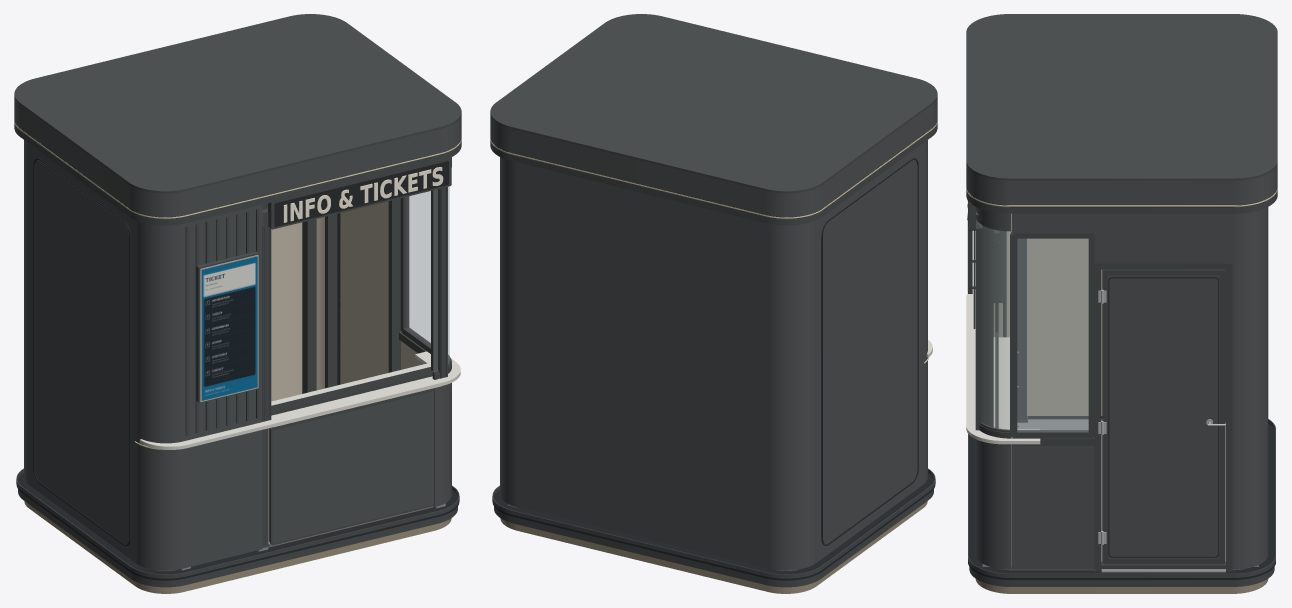
3 renders of one model, left to right at view 1: azimuth 30°, elevation 25°; view 2: azimuth 150°, elevation 25°; view 3: azimuth 270°, elevation 25°, orthographic. The views are drawn at different scales.
Visible parts, largest first — view 1: Geom3D (×42); view 2: Geom3D (×17); view 3: Geom3D (×33).
Part boxes in pixels (x1,y1,x2,y2): Geom3D (×42): (14, 14, 461, 593); Geom3D (×17): (490, 14, 937, 593); Geom3D (×33): (966, 14, 1277, 593).
Bounding box in the file's own units: 2.5 × 3 × 2.
Materials: 16 (1 with a texture image).
